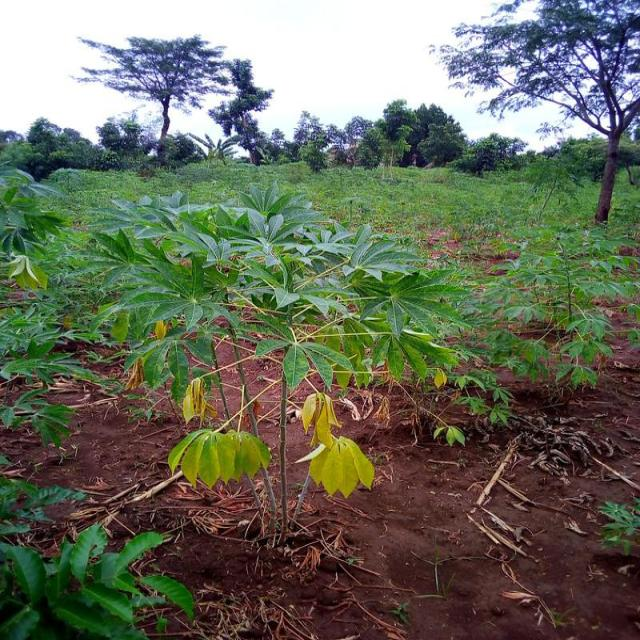cassava leaf: (168, 426, 270, 489)
